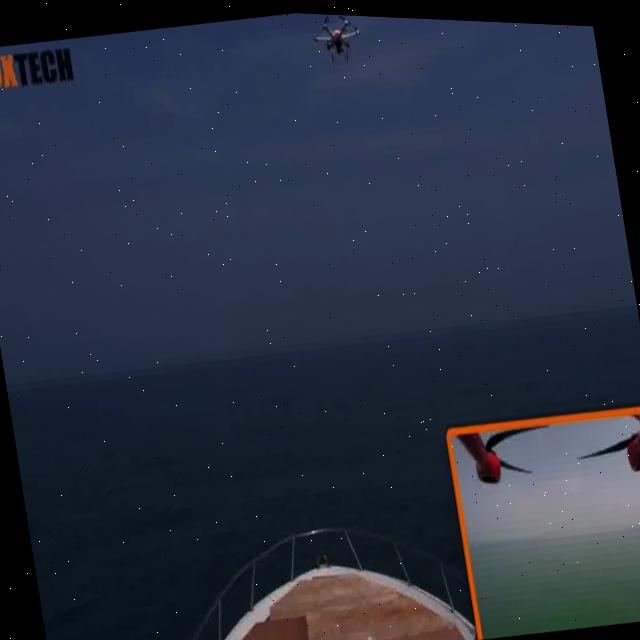drone: (305, 11, 369, 73)
